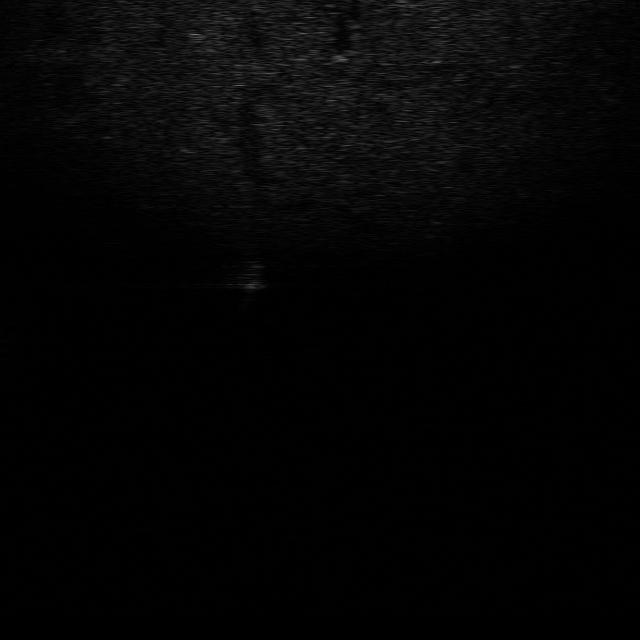human body: (232, 256, 268, 320)
